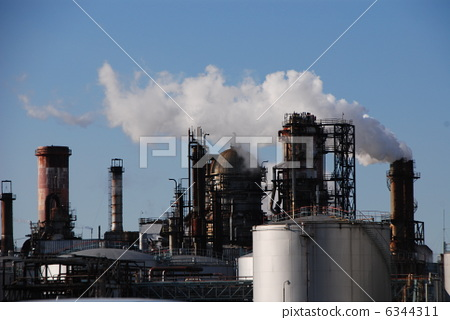dust: (92, 63, 285, 143), (288, 80, 420, 167)
